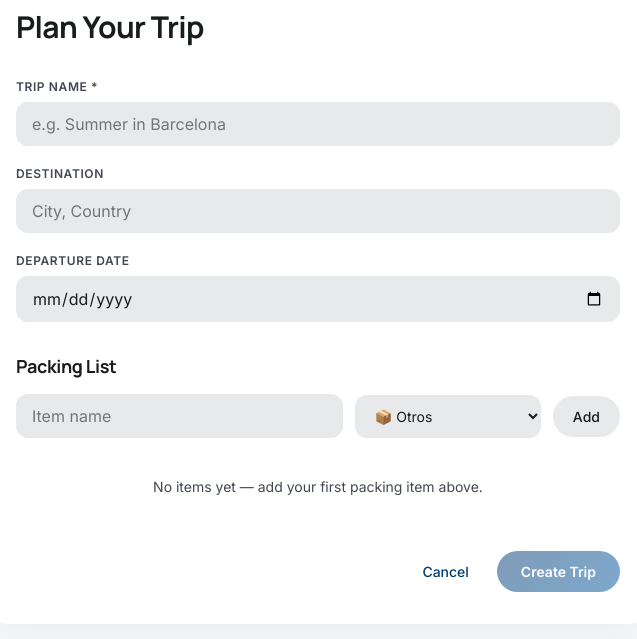
Test: TripForm › adds item on button click
Type "Passport" into the field with test id "new-item-name-input" at [179, 416], box [16,394,343,438]
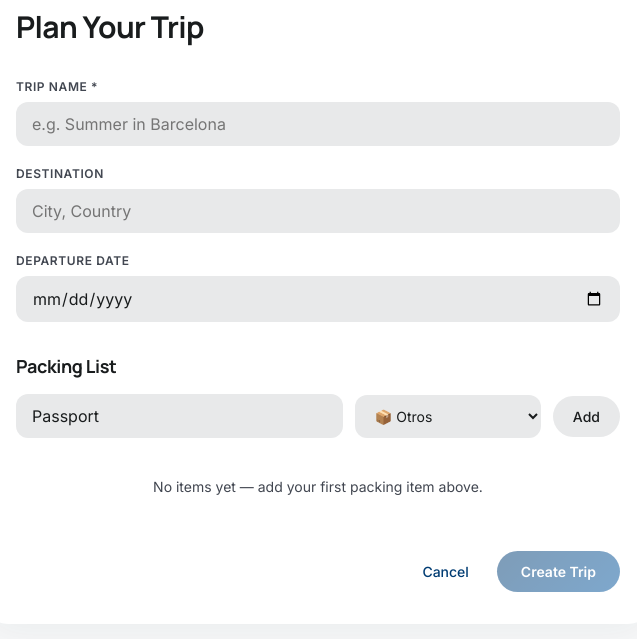
Click the button with test id "add-item-button" at [586, 416], box [553,396,620,437]
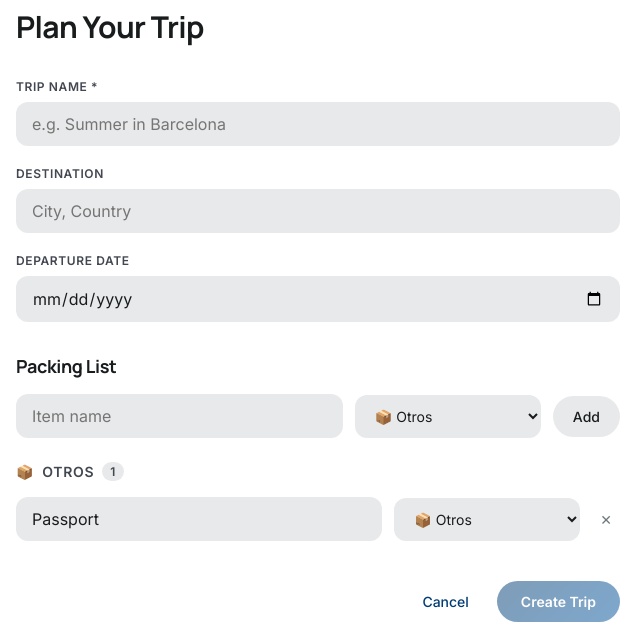
Result: the field with test id "item-input-0" is shown at [16,497,382,541]
